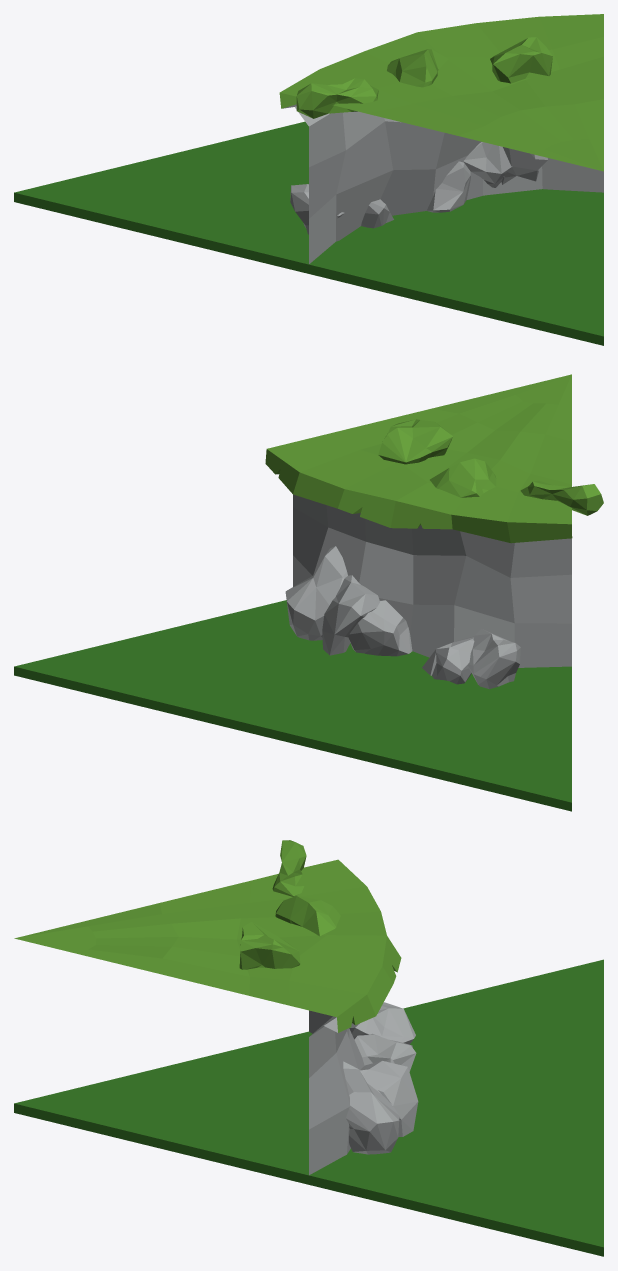
The picture shows the model from 3 angles, top to bottom: view 1: azimuth 30°, elevation 25°; view 2: azimuth 150°, elevation 25°; view 3: azimuth 270°, elevation 25°; orthographic projection. The views are drawn at different scales.
Visible parts, largest first — view 1: ground.002, hill.002, bush3.001, bush2.001, bush1.001, rock5, rock0, rock4, rock1, rock3; view 2: hill.002, ground.002, rock4, rock5, rock0, bush2.001, rock1, bush1.001, rock3, bush3.001; view 3: ground.002, hill.002, rock4, rock5, bush2.001, bush1.001, rock1, rock3, bush3.001.
Boxes of the visible parts, x1,y1,x2,y2 form: ground.002: [14, 121, 603, 345]; hill.002: [279, 14, 603, 263]; bush3.001: [296, 78, 378, 118]; bush2.001: [490, 37, 552, 83]; bush1.001: [387, 49, 448, 87]; rock5: [463, 142, 512, 187]; rock0: [426, 161, 470, 212]; rock4: [501, 147, 547, 184]; rock1: [290, 184, 344, 234]; rock3: [361, 199, 393, 228]; hill.002: [265, 374, 572, 667]; ground.002: [14, 600, 571, 811]; rock4: [285, 546, 347, 640]; rock5: [322, 575, 379, 655]; rock0: [348, 600, 412, 656]; bush2.001: [378, 419, 453, 464]; rock1: [468, 629, 520, 689]; bush1.001: [430, 458, 496, 497]; rock3: [422, 636, 474, 684]; bush3.001: [520, 480, 603, 515]; ground.002: [14, 959, 603, 1256]; hill.002: [14, 859, 401, 1175]; rock4: [343, 1061, 399, 1154]; rock5: [359, 1060, 418, 1136]; bush2.001: [239, 922, 300, 969]; bush1.001: [275, 896, 340, 935]; rock1: [349, 1002, 415, 1044]; rock3: [354, 1033, 416, 1071]; bush3.001: [272, 840, 306, 896].
Size of the model in its own units: 1 by 0.3556 by 0.866.
